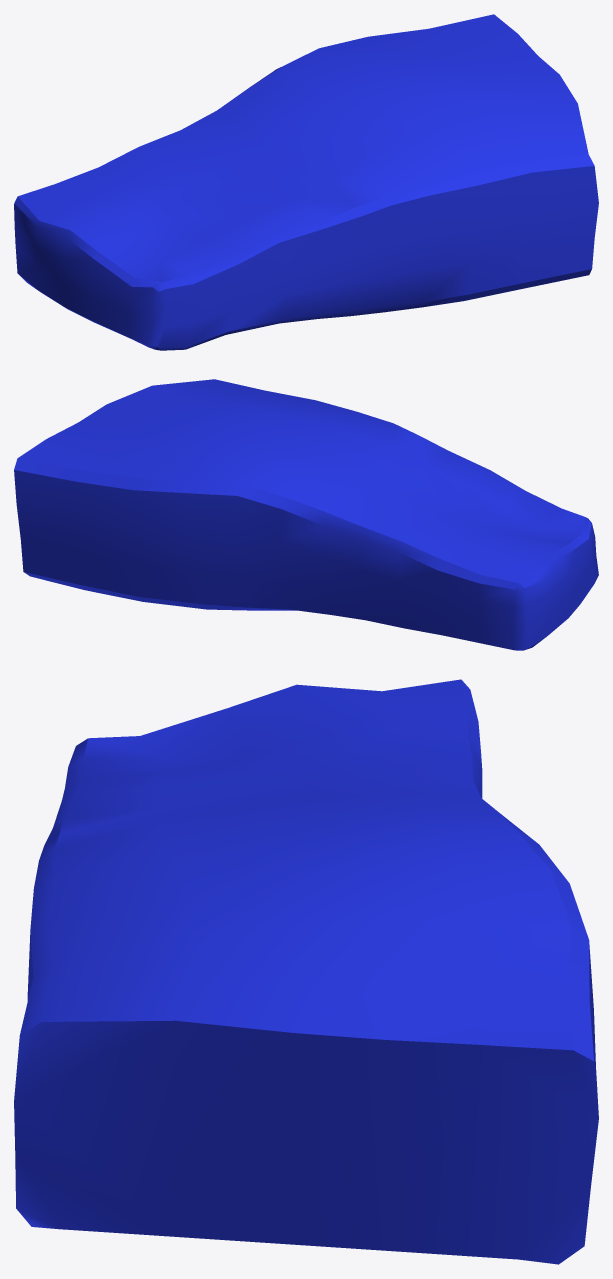
File: veal_n2.2_low.fbx
3 renders of one model, top to bottom at view 1: azimuth 30°, elevation 25°; view 2: azimuth 150°, elevation 25°; view 3: azimuth 270°, elevation 25°, orthographic. The views are drawn at different scales.
Visible parts, largest first — view 1: veal__n2.2_low; view 2: veal__n2.2_low; view 3: veal__n2.2_low.
Boxes of the visible parts, x1,y1,x2,y2 form: veal__n2.2_low: (14, 14, 598, 350); veal__n2.2_low: (14, 379, 598, 650); veal__n2.2_low: (14, 679, 598, 1264).
Bounding box in the file's own units: 21.83 × 6.32 × 12.37.
